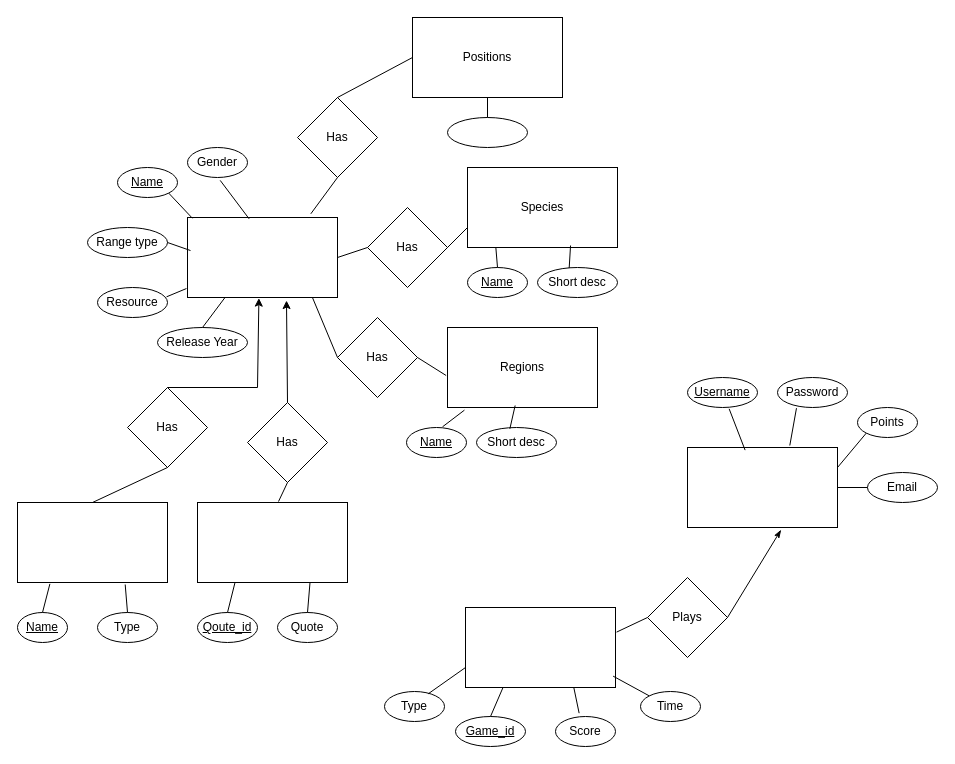
Image size: 955x764. Some labels were removed from this diagram. Here are the shapes that lost their labels. From the top down, the centre of each, then its label:
At (x=487, y=132): "Position".
At (x=262, y=257): "Champions".
At (x=762, y=487): "Users".
At (x=92, y=542): "Abilities".
At (x=272, y=542): "Quotes".
At (x=540, y=647): "Games".
